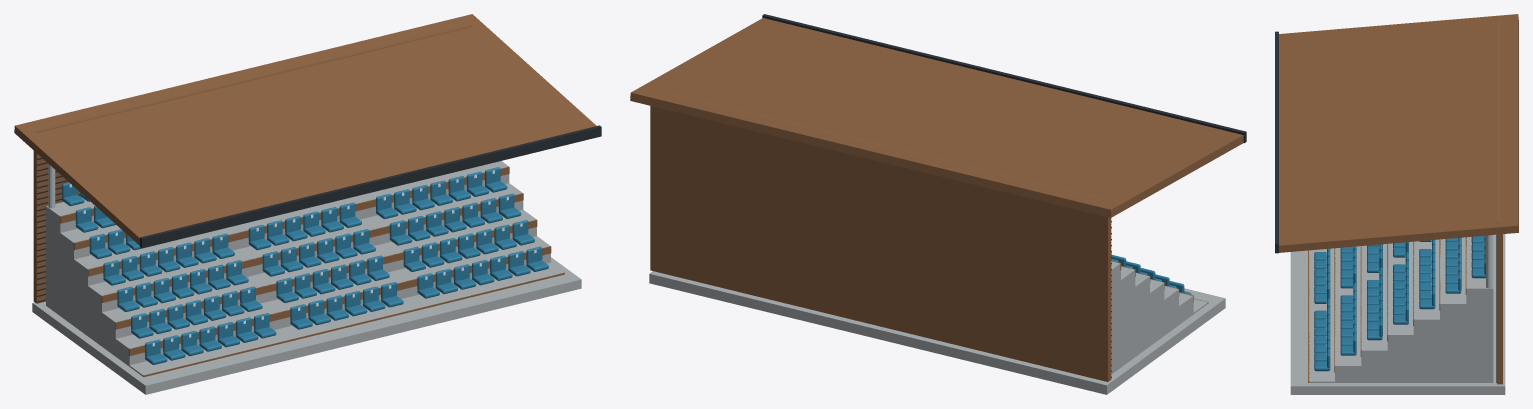
File: grandstand.glb
3 renders of one model, left to right at view 1: azimuth 30°, elevation 25°; view 2: azimuth 150°, elevation 25°; view 3: azimuth 270°, elevation 25°, orthographic. The views are drawn at different scales.
Parts seen in each view (by area): view 1: Static_Geometry; view 2: Static_Geometry; view 3: Static_Geometry.
Part boxes in pixels (x1,y1,x2,y2): Static_Geometry: [14, 14, 601, 394]; Static_Geometry: [630, 14, 1246, 394]; Static_Geometry: [1275, 14, 1518, 394].
Size of the model in its own units: 12.65 by 4.84 by 6.14.
